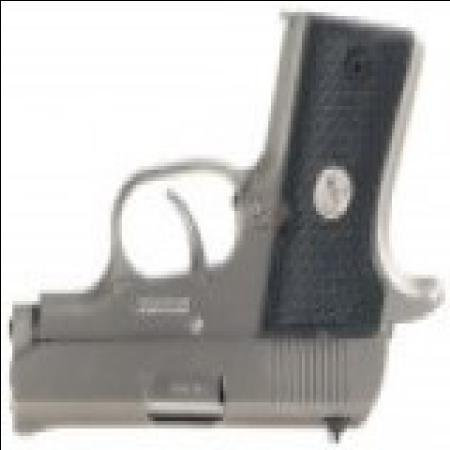Pistol: (14, 19, 444, 435)
